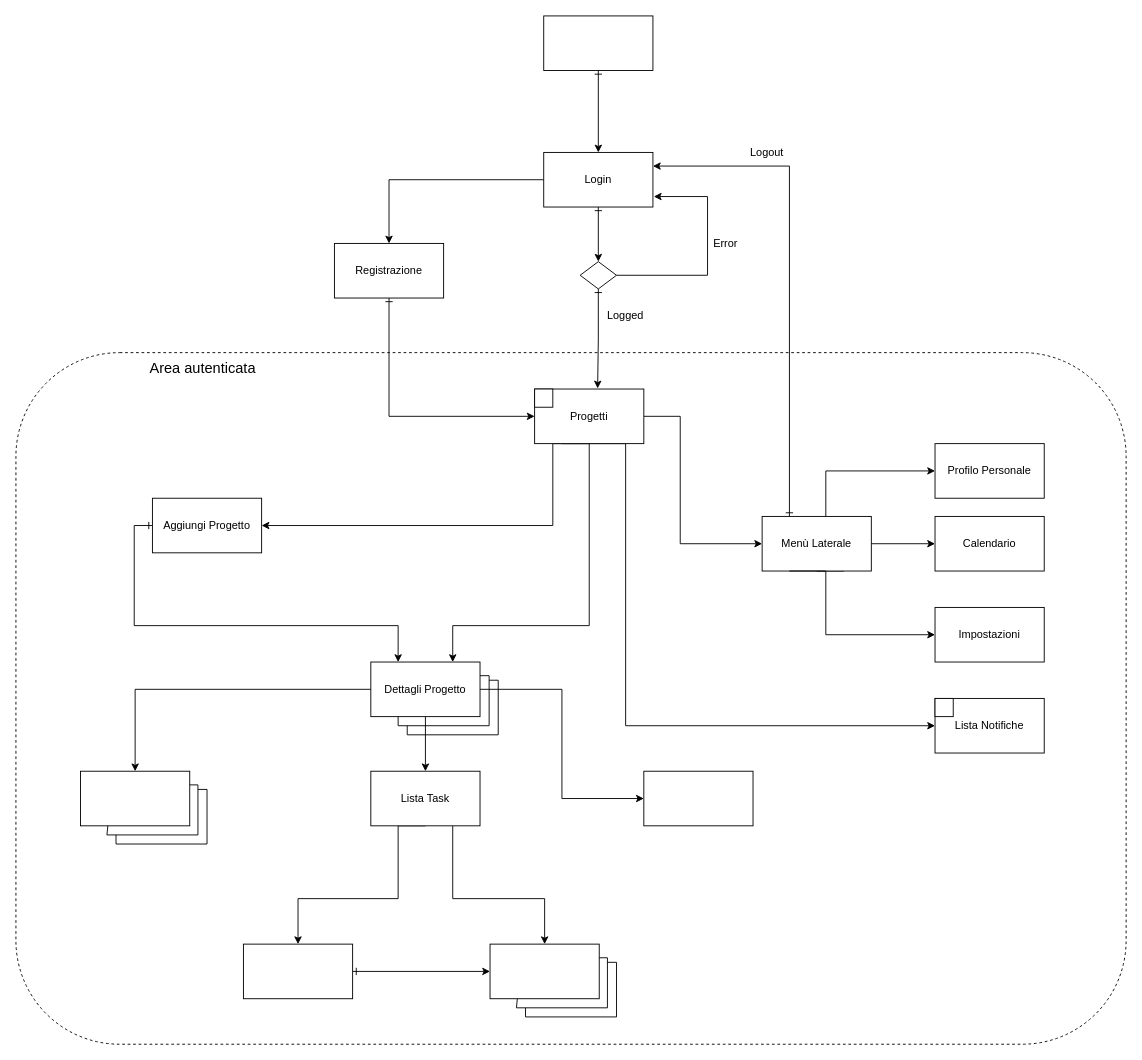
The diagram is 1142 pixels wide and 1060 high, and some of its shapes have lost their labels. Each missing label, with the box of its shape:
Aggiungi Membri: (643, 770, 753, 826)
Aggiungi Task: (243, 943, 353, 999)
Dettagli Task: (489, 943, 599, 999)
Profilo Membro: (80, 770, 190, 826)
Splash Screen: (543, 15, 653, 71)
